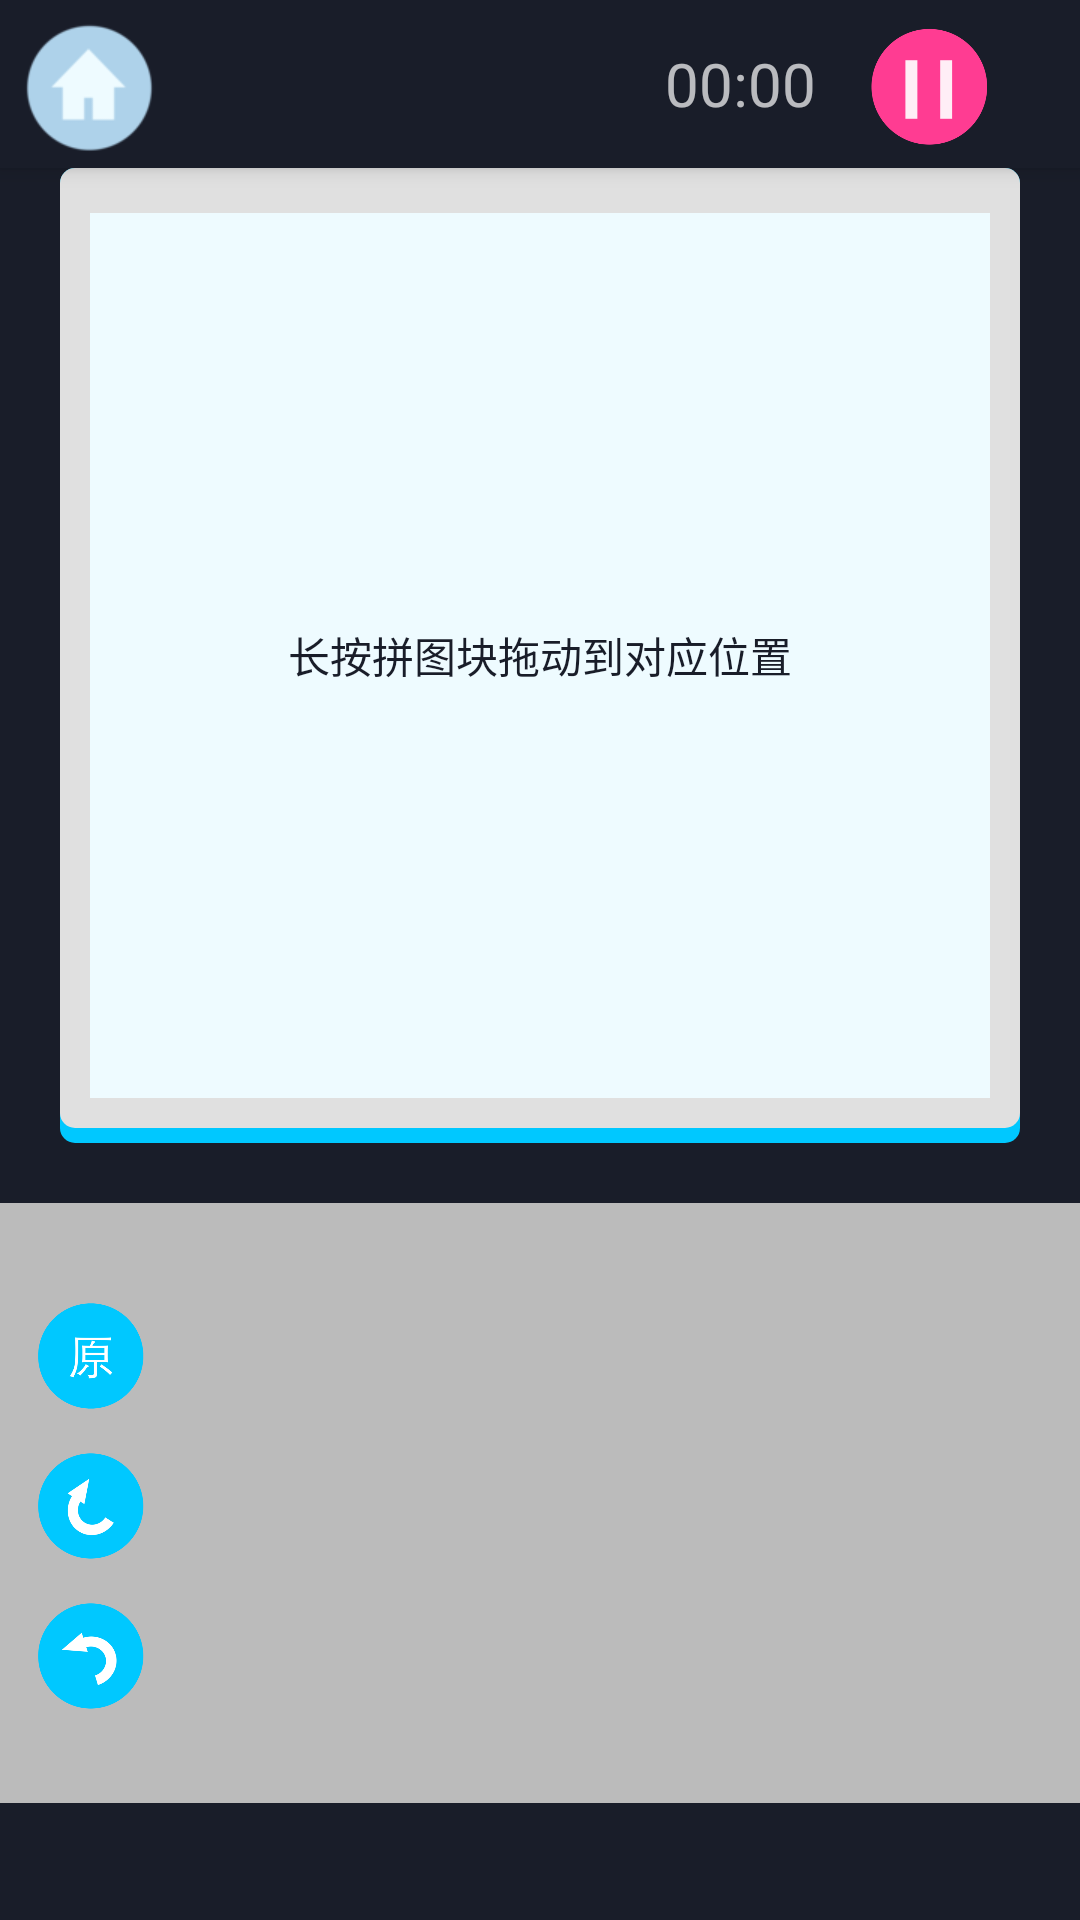

Named icons in this screenshot (1080 x 1920) and their centers, (x=x, y=y):
pause: (x=929, y=87)
